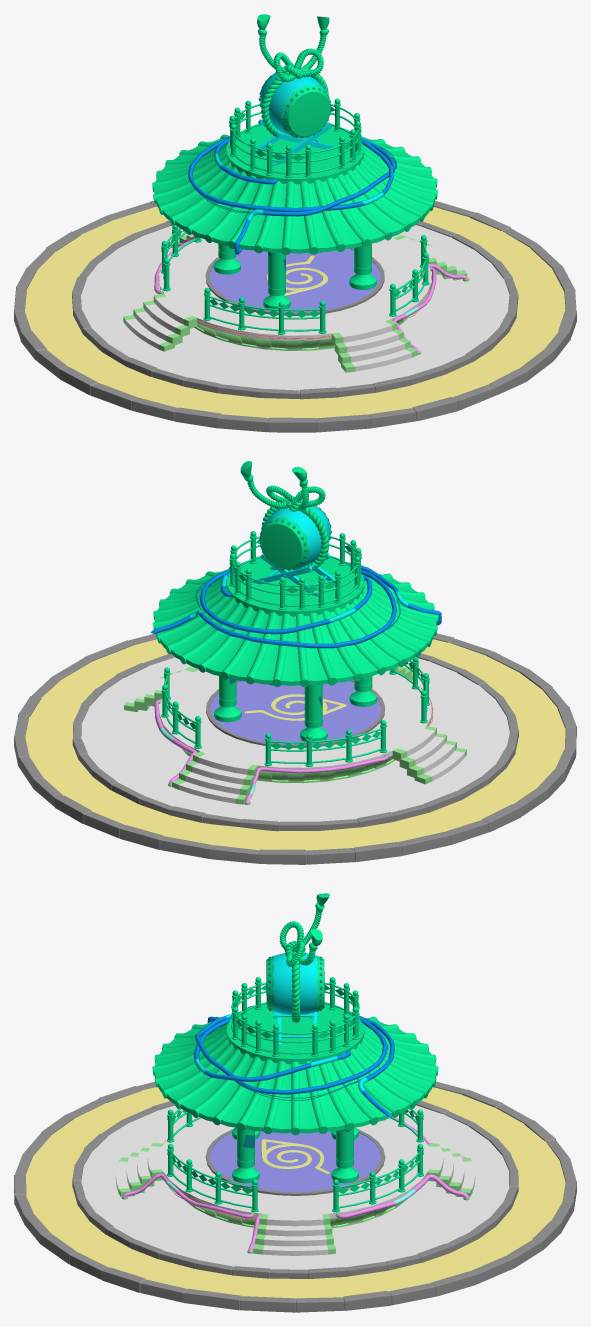
The model's file is SM_ENV_LKNVLD_Event_HL_WoodenStage_A.gltf.
3 views of the same model, one above another, from view 1: azimuth 30°, elevation 25°; view 2: azimuth 150°, elevation 25°; view 3: azimuth 270°, elevation 25° (orthographic).
Visible parts, largest first — view 1: SM_ENV_LKNVLD_Event_HL_WoodenStage_A; view 2: SM_ENV_LKNVLD_Event_HL_WoodenStage_A; view 3: SM_ENV_LKNVLD_Event_HL_WoodenStage_A.
Boxes of the visible parts, x1=… form: SM_ENV_LKNVLD_Event_HL_WoodenStage_A: x1=14, y1=14, x2=576, y2=432; SM_ENV_LKNVLD_Event_HL_WoodenStage_A: x1=14, y1=461, x2=576, y2=864; SM_ENV_LKNVLD_Event_HL_WoodenStage_A: x1=14, y1=893, x2=576, y2=1312.
Bounding box in the file's own units: 19.17 × 10.94 × 19.18.
